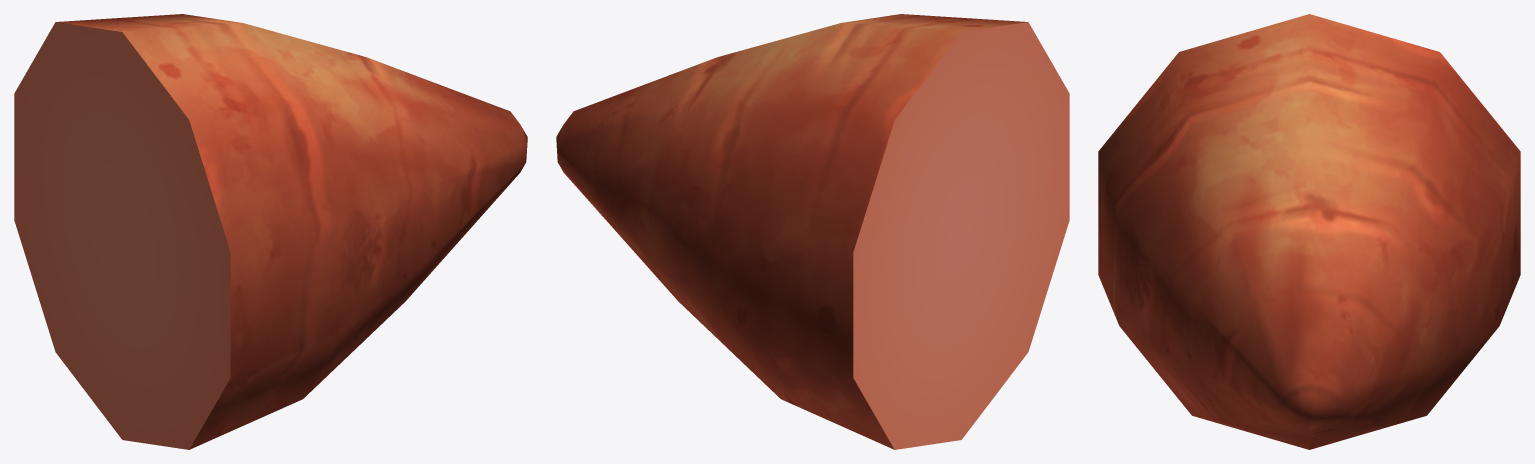
The model's file is Potato_Sweet_Half.fbx.
3 renders of one model, left to right at view 1: azimuth 30°, elevation 25°; view 2: azimuth 150°, elevation 25°; view 3: azimuth 270°, elevation 25°, orthographic. The views are drawn at different scales.
Parts seen in each view (by area): view 1: Potato_Sweet_Half; view 2: Potato_Sweet_Half; view 3: Potato_Sweet_Half.
Part boxes in pixels (x1,y1,x2,y2): Potato_Sweet_Half: [14, 14, 527, 449]; Potato_Sweet_Half: [556, 14, 1069, 449]; Potato_Sweet_Half: [1098, 14, 1520, 449].
Size of the model in its own units: 43.43 by 41.76 by 40.13.
